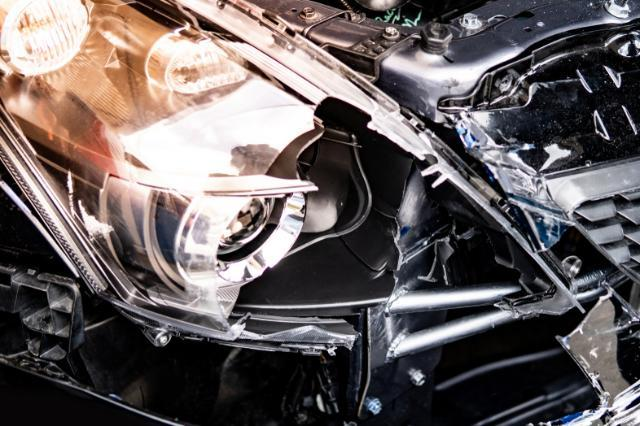Bumper: (361, 135, 633, 426)
Light: (10, 0, 320, 278)
